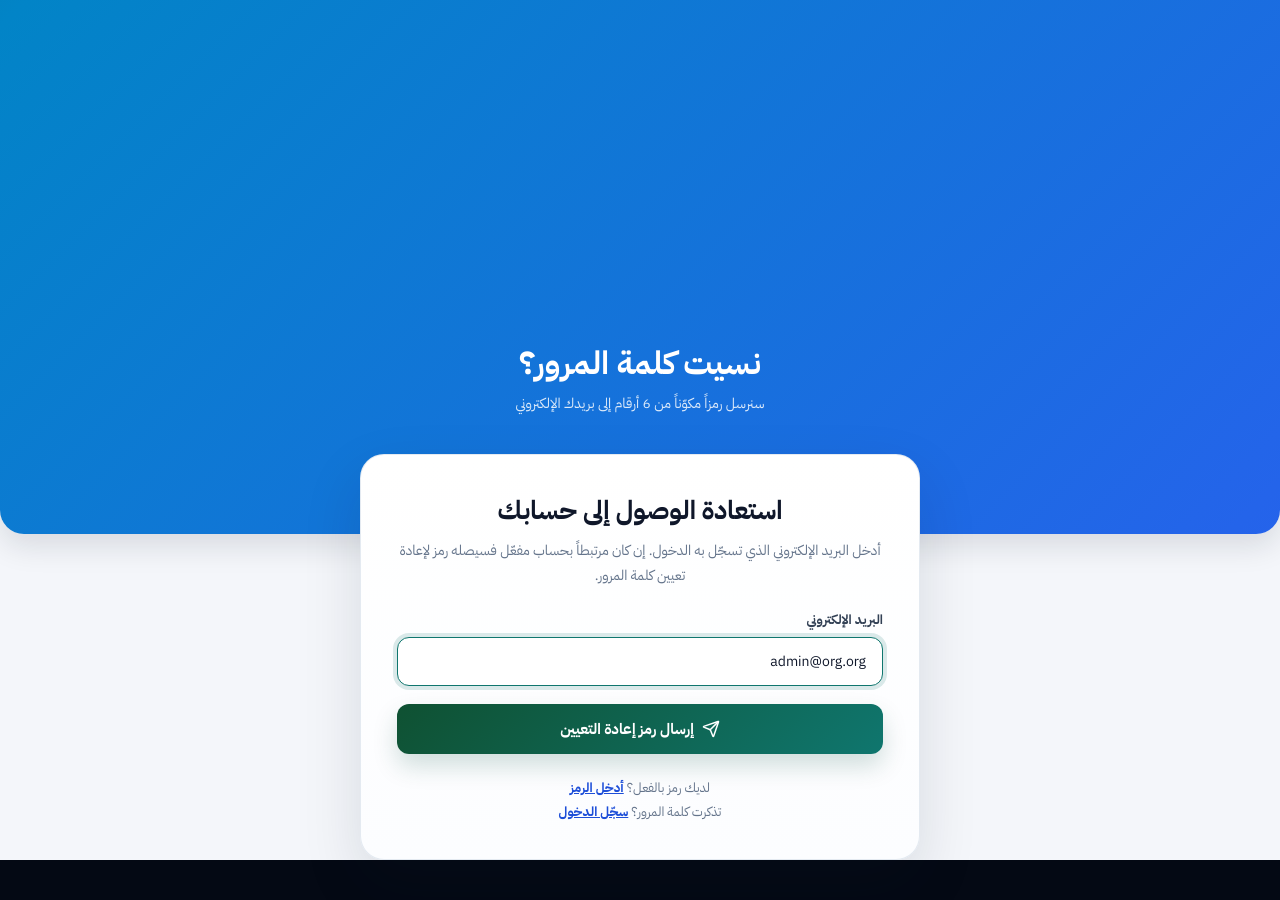
Test: forgot-password page › a cooldown / quota refusal (429) is shown and keeps the user here
Earlier steps of the test are not shown.
(page scrolled)
Click the button "إرسال رمز إعادة التعيين": [640, 729] box [397, 704, 883, 754]
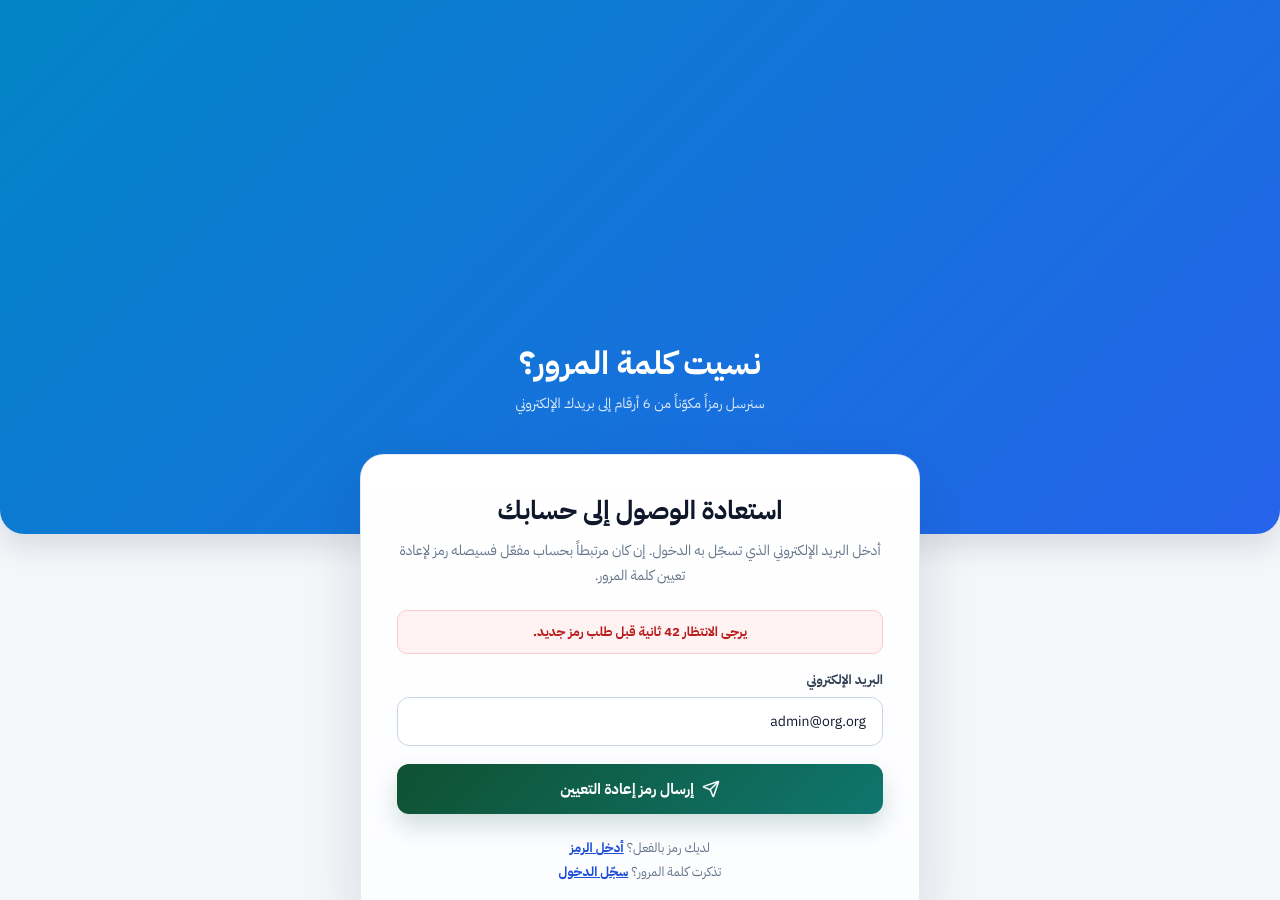
Expected: the button "إرسال رمز إعادة التعيين" is enabled, [397, 764, 883, 814]
Expected: the message shows "يرجى الانتظار 42 ثانية", [533, 622, 747, 641]
